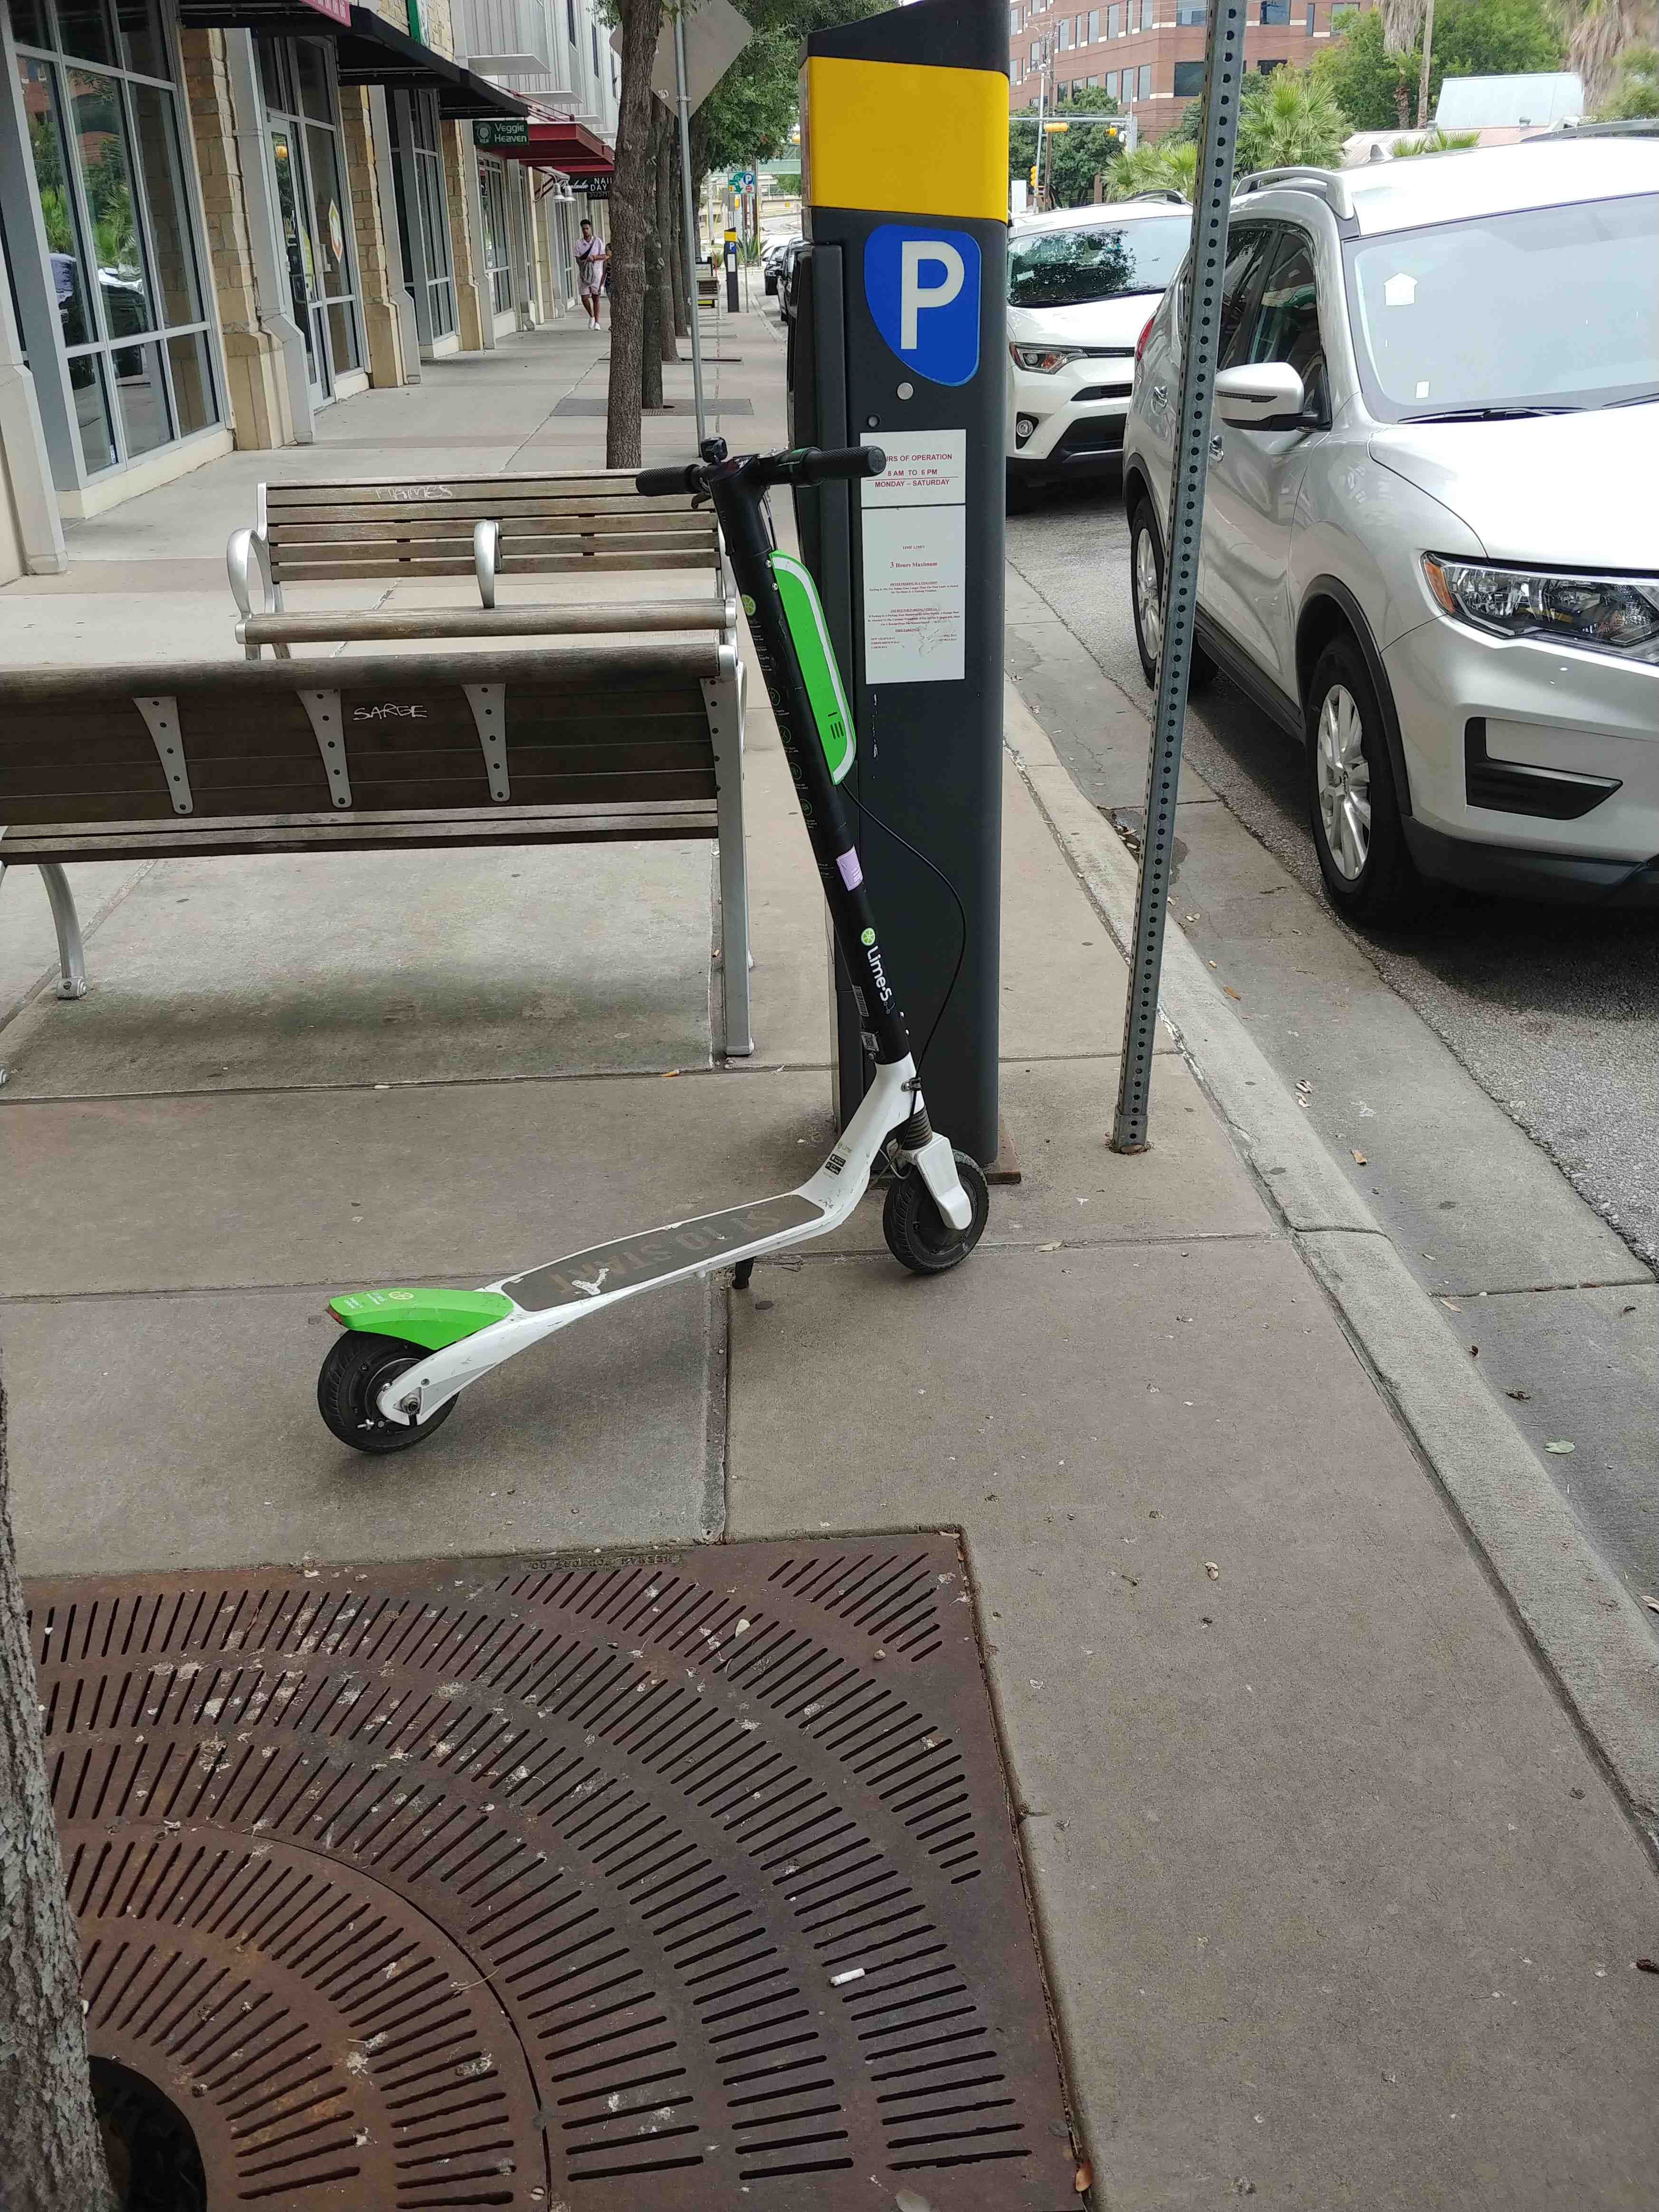scooter: (272, 420, 1039, 1503)
